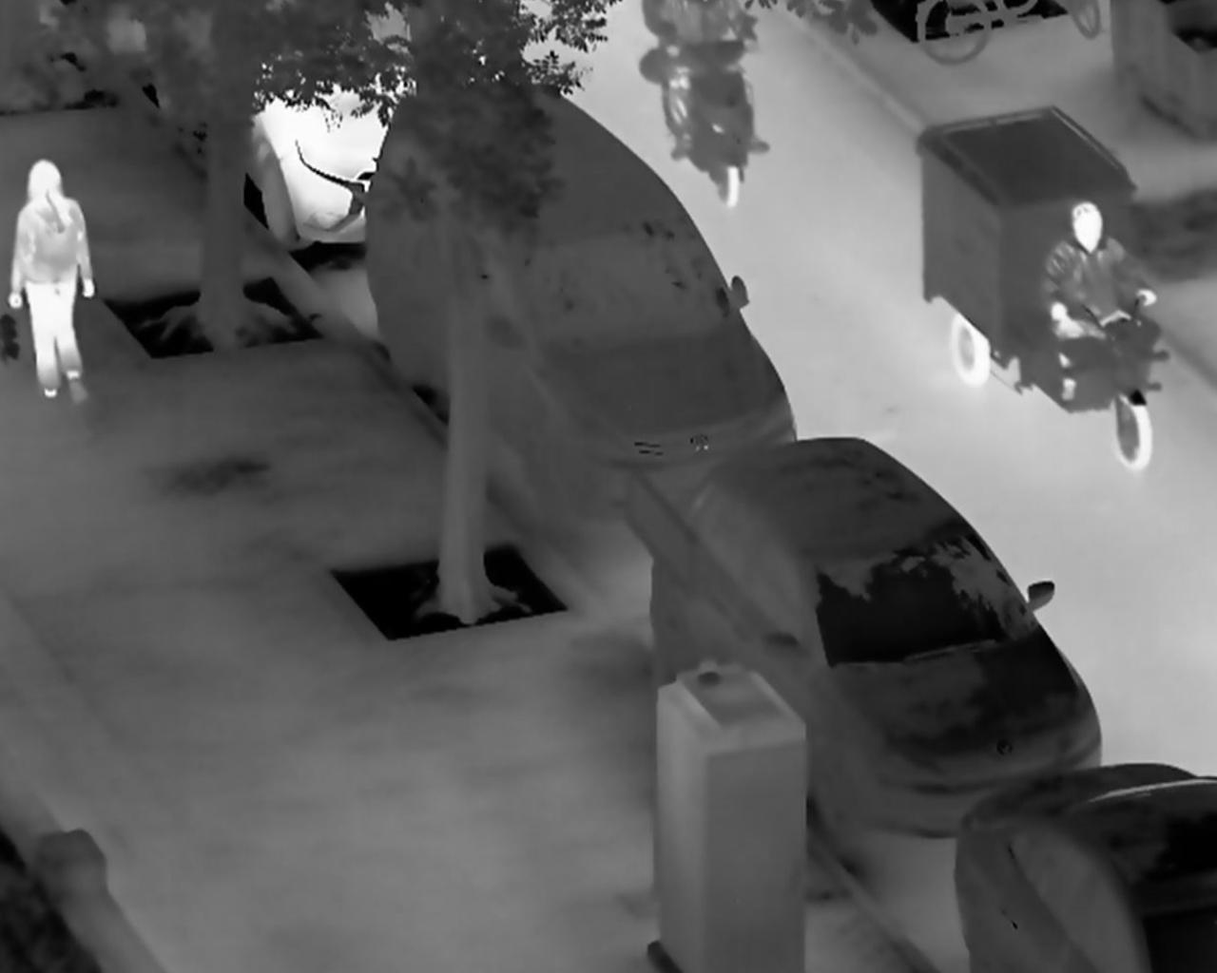person: (1042, 198, 1160, 408), (7, 157, 95, 410), (654, 2, 762, 168)
